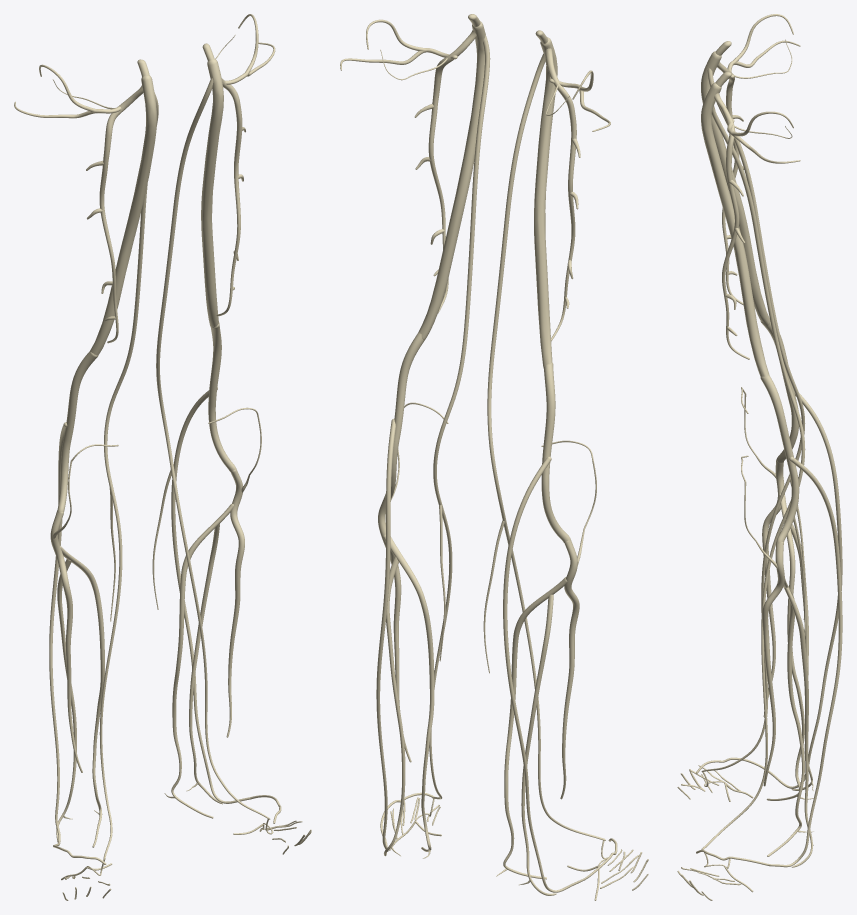
Rendered from bodyparts3d-venous-lower-limb.glb.
The picture shows the model from 3 angles, left to right: view 1: azimuth 30°, elevation 25°; view 2: azimuth 150°, elevation 25°; view 3: azimuth 270°, elevation 25°; orthographic projection. The views are drawn at different scales.
Visible parts, largest first — view 1: venous-great-saphenous-vein-left, venous-femoral-vein-right, venous-femoral-vein-left, venous-great-saphenous-vein-right, venous-anterior-tibial-vein-left, venous-anterior-tibial-vein-right, venous-small-saphenous-vein-left, venous-posterior-tibial-vein-left, venous-deep-femoral-vein-right, venous-small-saphenous-vein-right, venous-popliteal-vein-right, venous-posterior-tibial-vein-right (+6 smaller); view 2: venous-great-saphenous-vein-right, venous-femoral-vein-right, venous-great-saphenous-vein-left, venous-femoral-vein-left, venous-small-saphenous-vein-right, venous-small-saphenous-vein-left, venous-anterior-tibial-vein-right, venous-fibular-vein-right, venous-posterior-tibial-vein-left, venous-posterior-tibial-vein-right, venous-deep-femoral-vein-right, venous-popliteal-vein-right (+6 smaller); view 3: venous-great-saphenous-vein-left, venous-femoral-vein-left, venous-great-saphenous-vein-right, venous-femoral-vein-right, venous-small-saphenous-vein-left, venous-anterior-tibial-vein-left, venous-small-saphenous-vein-right, venous-popliteal-vein-left, venous-deep-femoral-vein-left, venous-anterior-tibial-vein-right, venous-fibular-vein-left, venous-posterior-tibial-vein-left (+7 smaller).
Boxes of the visible parts, x1,y1,x2,y2 form: venous-great-saphenous-vein-left: (152,78,270,819); venous-femoral-vein-right: (90,75,156,360); venous-femoral-vein-left: (201,59,223,330); venous-great-saphenous-vein-right: (99,92,158,860); venous-anterior-tibial-vein-left: (208,407,261,737); venous-anterior-tibial-vein-right: (50,444,118,772); venous-small-saphenous-vein-left: (171,387,250,803); venous-posterior-tibial-vein-left: (171,503,233,818); venous-deep-femoral-vein-right: (99,59,149,343); venous-small-saphenous-vein-right: (49,422,67,845); venous-popliteal-vein-right: (57,351,98,512); venous-posterior-tibial-vein-right: (60,546,104,847); venous-great-saphenous-vein-right: (483,53,605,840); venous-femoral-vein-right: (534,37,557,368); venous-great-saphenous-vein-left: (429,35,490,799); venous-femoral-vein-left: (418,21,485,340); venous-small-saphenous-vein-right: (503,456,585,892); venous-small-saphenous-vein-left: (376,419,395,851); venous-anterior-tibial-vein-right: (541,440,596,799); venous-fibular-vein-right: (414,104,556,895); venous-posterior-tibial-vein-left: (383,534,434,851); venous-posterior-tibial-vein-right: (503,577,567,879); venous-deep-femoral-vein-right: (535,30,576,340); venous-popliteal-vein-right: (541,362,570,542); venous-great-saphenous-vein-left: (701,106,805,849); venous-femoral-vein-left: (701,82,769,376); venous-great-saphenous-vein-right: (701,67,805,771); venous-femoral-vein-right: (701,51,770,325); venous-small-saphenous-vein-left: (769,456,842,867); venous-anterior-tibial-vein-left: (741,455,784,786); venous-small-saphenous-vein-right: (768,392,842,788); venous-popliteal-vein-left: (760,375,799,543); venous-deep-femoral-vein-left: (714,71,749,359); venous-anterior-tibial-vein-right: (741,387,784,717); venous-fibular-vein-left: (784,587,813,867); venous-posterior-tibial-vein-left: (767,578,804,856).
Size of the model in its own units: 0.2925 by 0.8845 by 0.1675.
